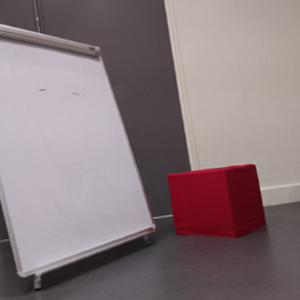big: (1, 24, 155, 282)
medium: (169, 164, 264, 238)
